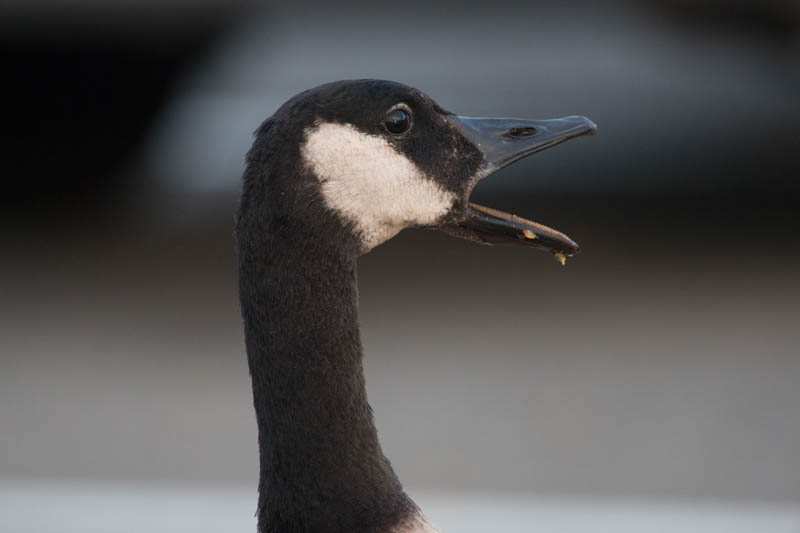goose-head: (234, 79, 598, 263)
